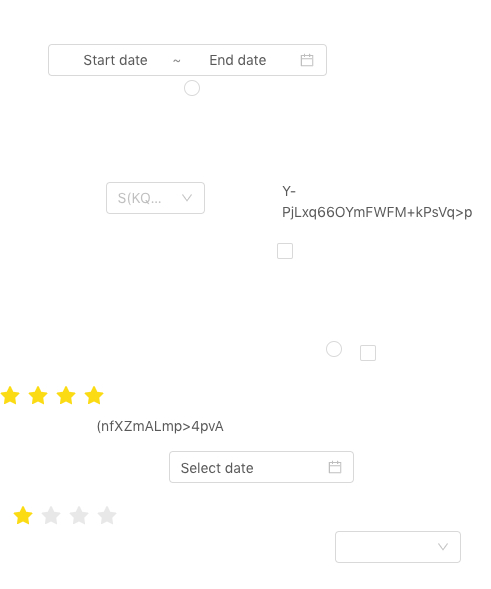Checkbox: (277, 240, 293, 261), (360, 342, 376, 363)
DatePicker: (169, 451, 354, 483)
Radio: (326, 338, 342, 358), (184, 77, 200, 97)
RangePicker: (48, 44, 327, 76)
Rate: (0, 379, 120, 411), (13, 499, 133, 531)
Select: (335, 531, 461, 563), (106, 182, 205, 214)
Text: (282, 180, 480, 220), (96, 415, 228, 441)
